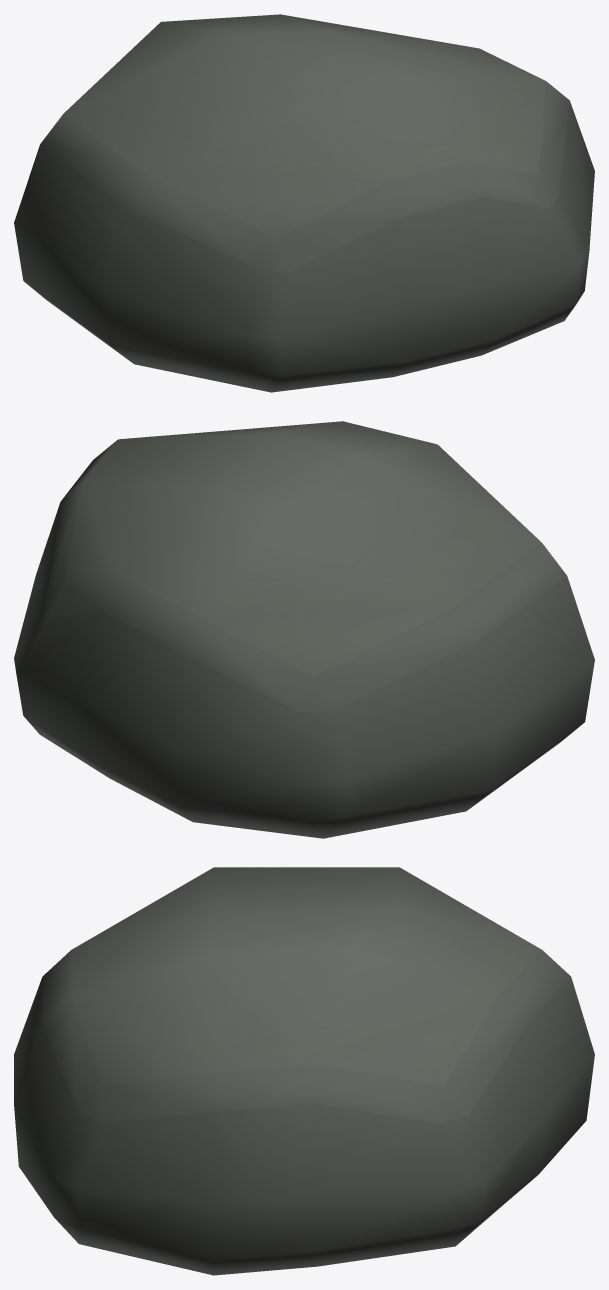
File: stone_01.fbx
3 renders of one model, top to bottom at view 1: azimuth 30°, elevation 25°; view 2: azimuth 150°, elevation 25°; view 3: azimuth 270°, elevation 25°, orthographic. The views are drawn at different scales.
Visible parts, largest first — view 1: stone_01; view 2: stone_01; view 3: stone_01.
Part boxes in pixels (box(x1,y1,x2,y2)): stone_01: box(14, 14, 594, 392); stone_01: box(14, 421, 594, 838); stone_01: box(14, 867, 594, 1275).
Size of the model in its own units: 235 by 102 by 227.
Materials: 1 (1 with a texture image).
